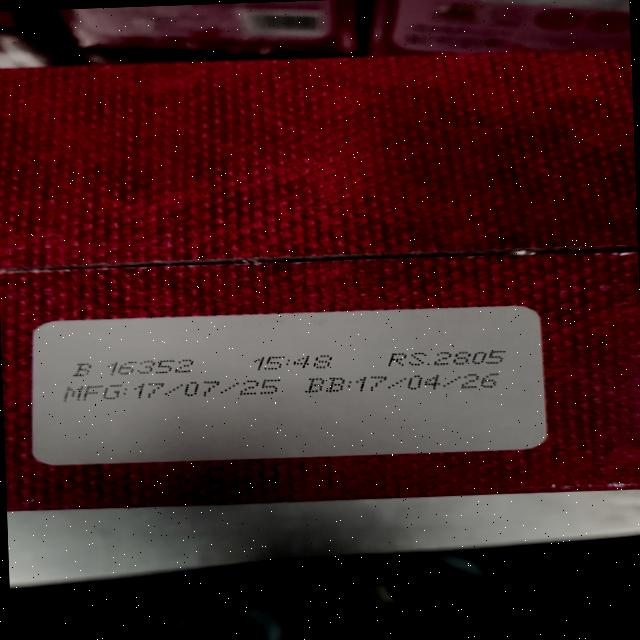BB: (306, 370, 506, 394)
Batch: (68, 358, 197, 377)
MFG: (65, 377, 282, 402)
RS: (385, 348, 510, 367)
TimeStamp: (254, 354, 336, 371)
